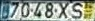0: (20, 1, 30, 18)
4: (33, 2, 42, 19)
7: (10, 1, 19, 18)
8: (44, 1, 53, 19)
S: (70, 1, 83, 20)
X: (57, 2, 69, 19)
